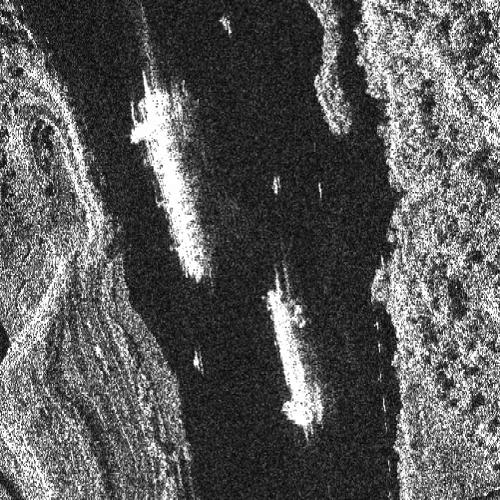ship: (131, 83, 207, 282), (263, 284, 323, 427)
